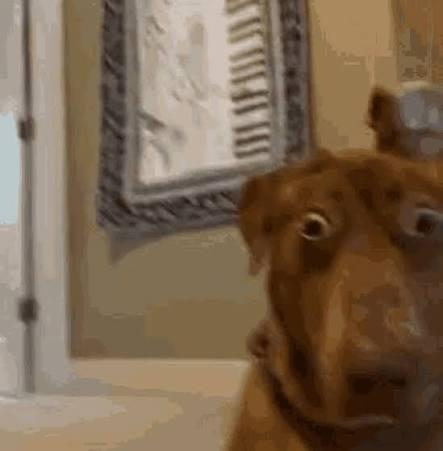adult_dog: (219, 146, 443, 451)
